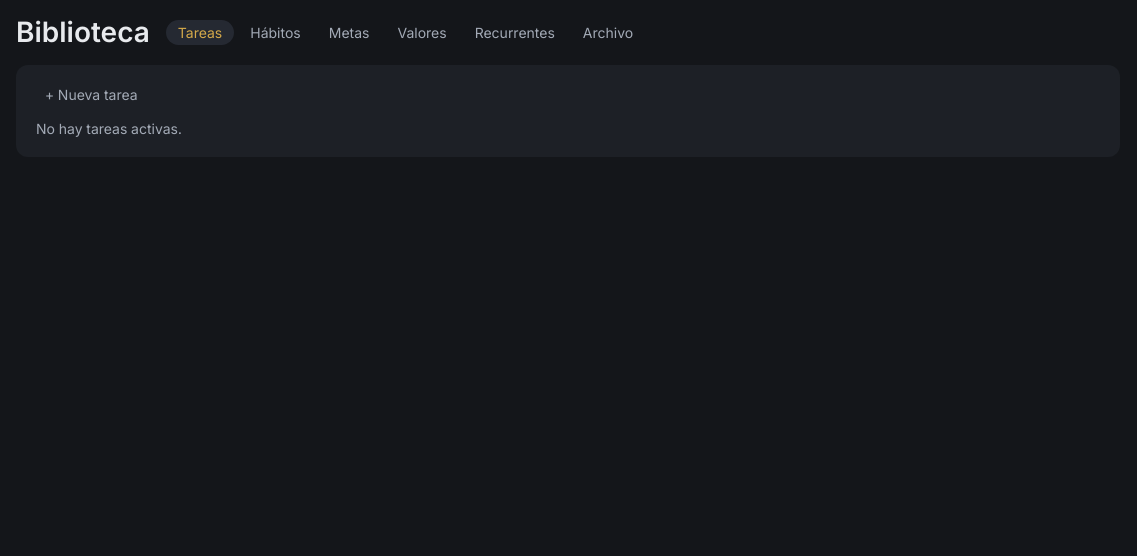
Library habit list and creation › shows habit strength and weekday labels in Spanish
Click the tab "Hábitos" at (276, 32), box [238,20,313,44]
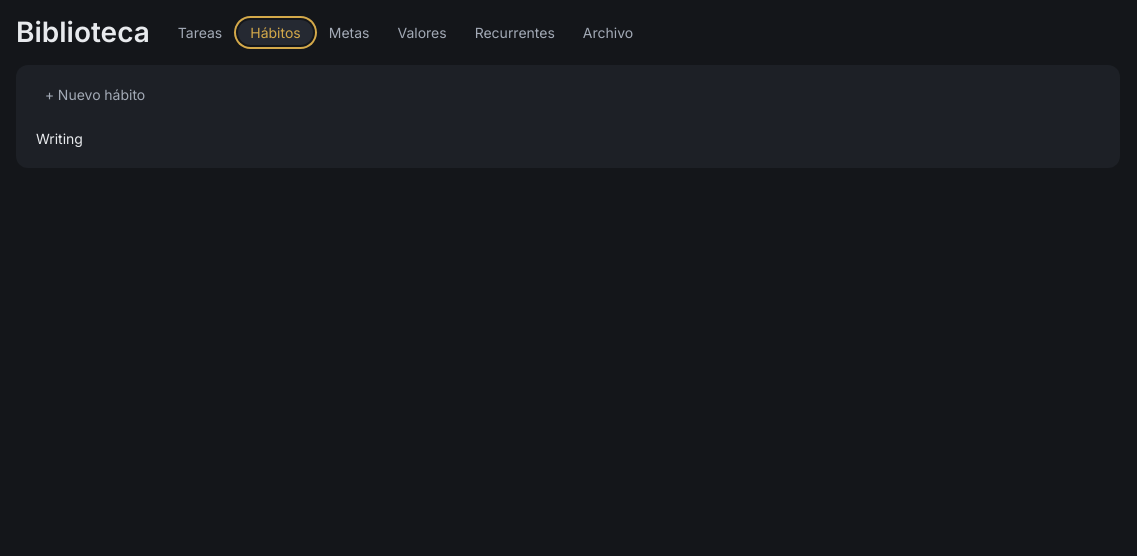
Click the button "Writing" at (59, 138), box [36,130,1092,146]
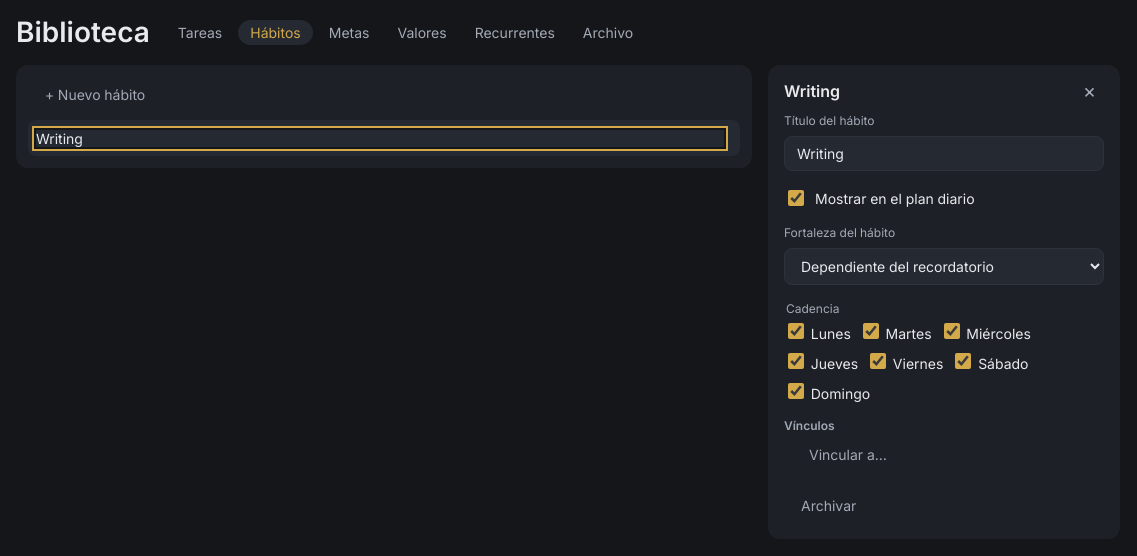
Expected: the checkbox labelled "Lunes" is shown, [788,323,804,339]
